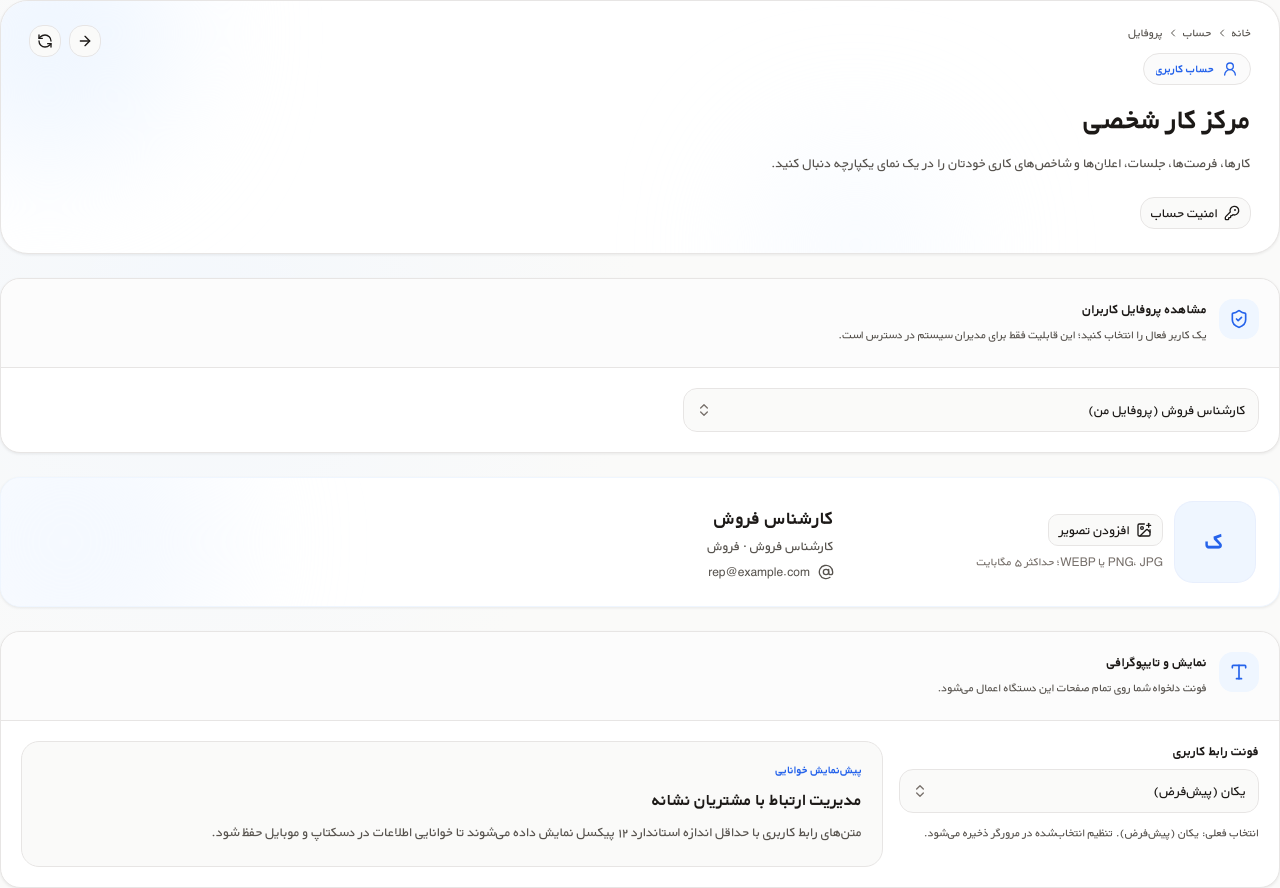
Scenario: lets an admin select another user and requests that user's workspace
Click the button with aria-label "انتخاب کاربر برای مشاهده پروفایل" at (1167,410), box [683,388,1259,432]
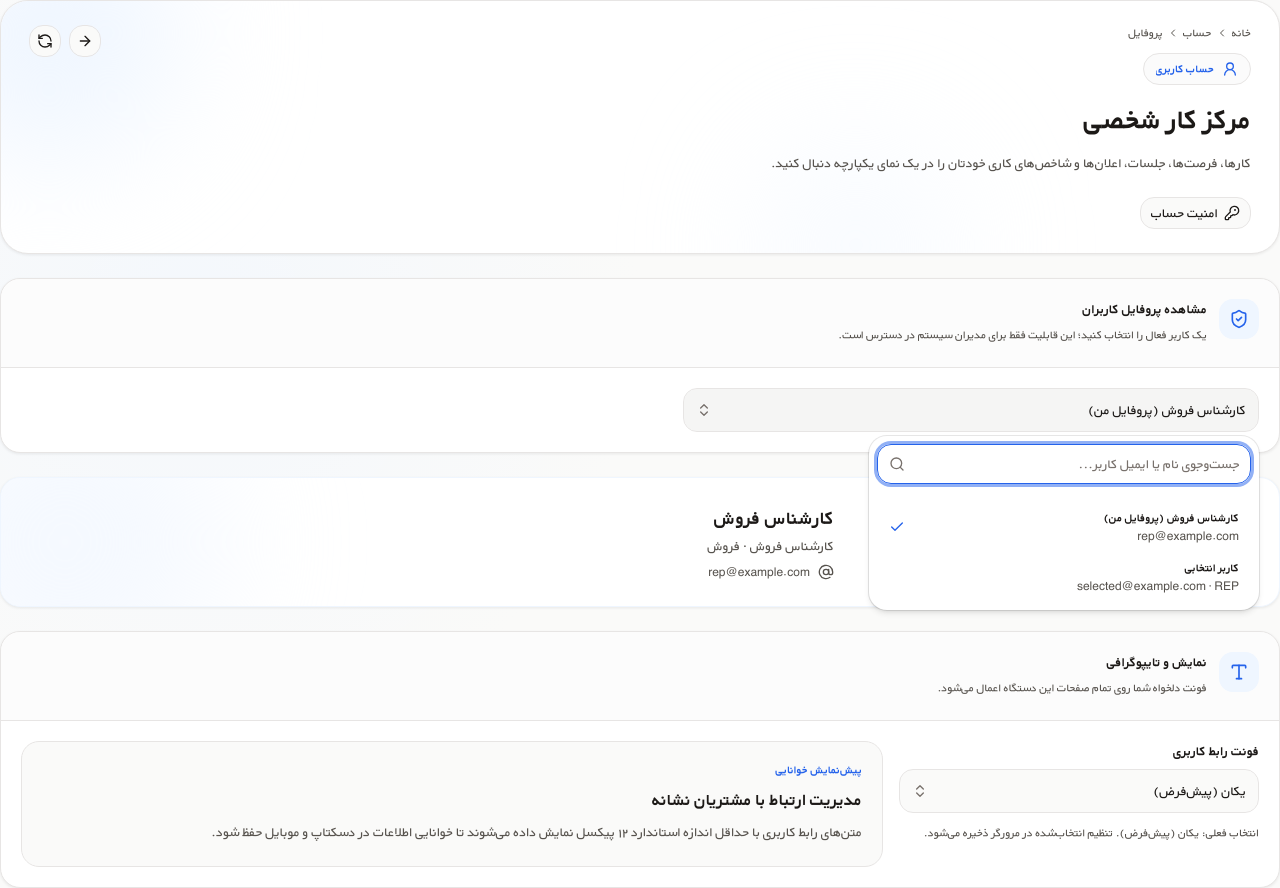
Click the text "کاربر انتخابی" at (1212,568), box [1185,559,1239,576]
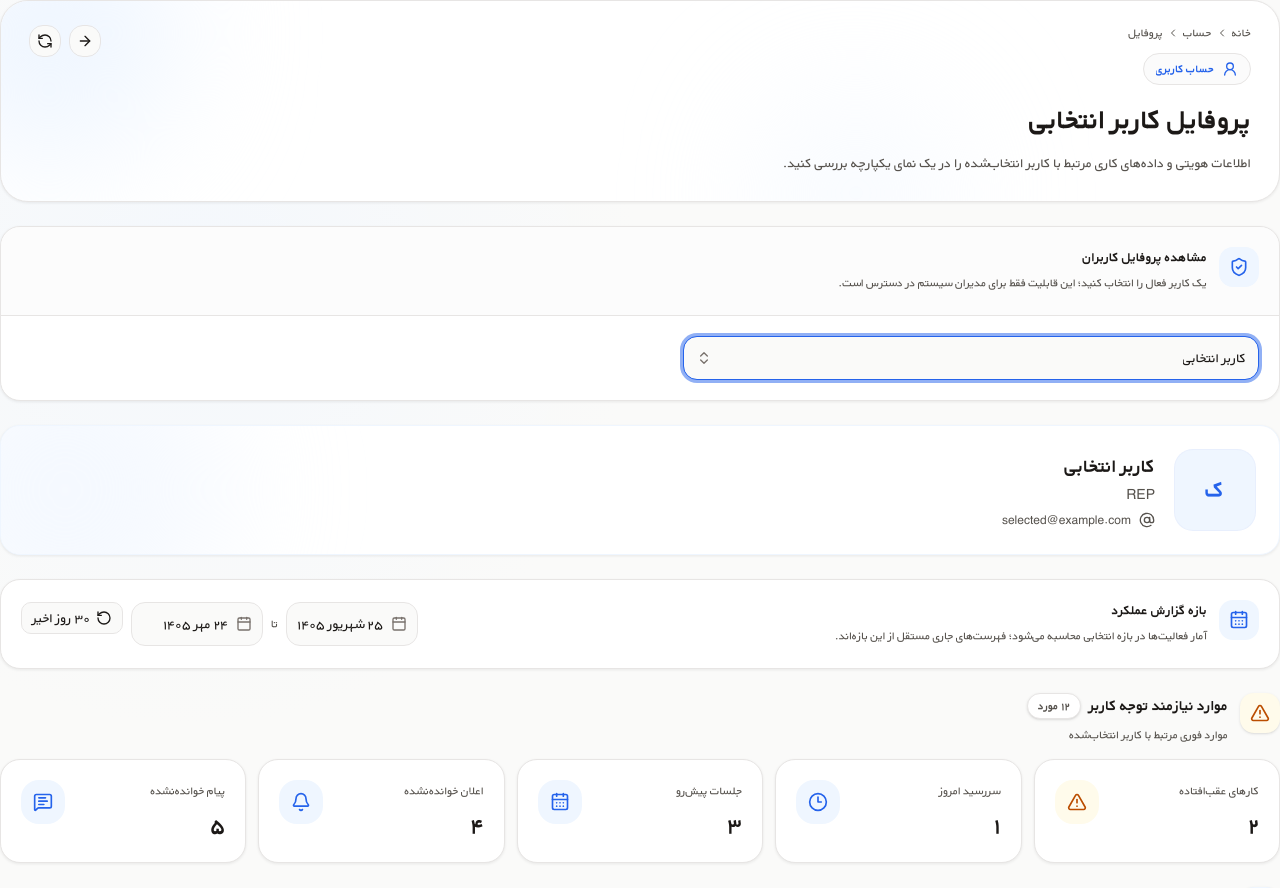
expect the text "selected@example.com" is shown: met, box [1002,512,1155,528]
